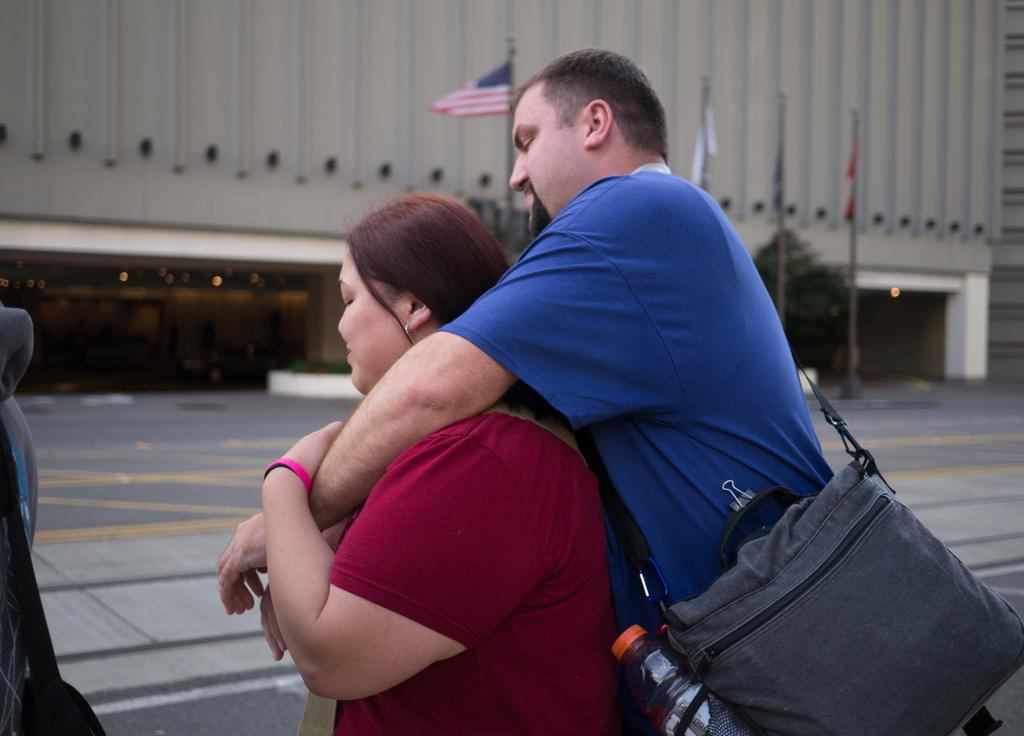Luggage-and-bags: (613, 346, 1022, 735), (0, 421, 107, 735)
